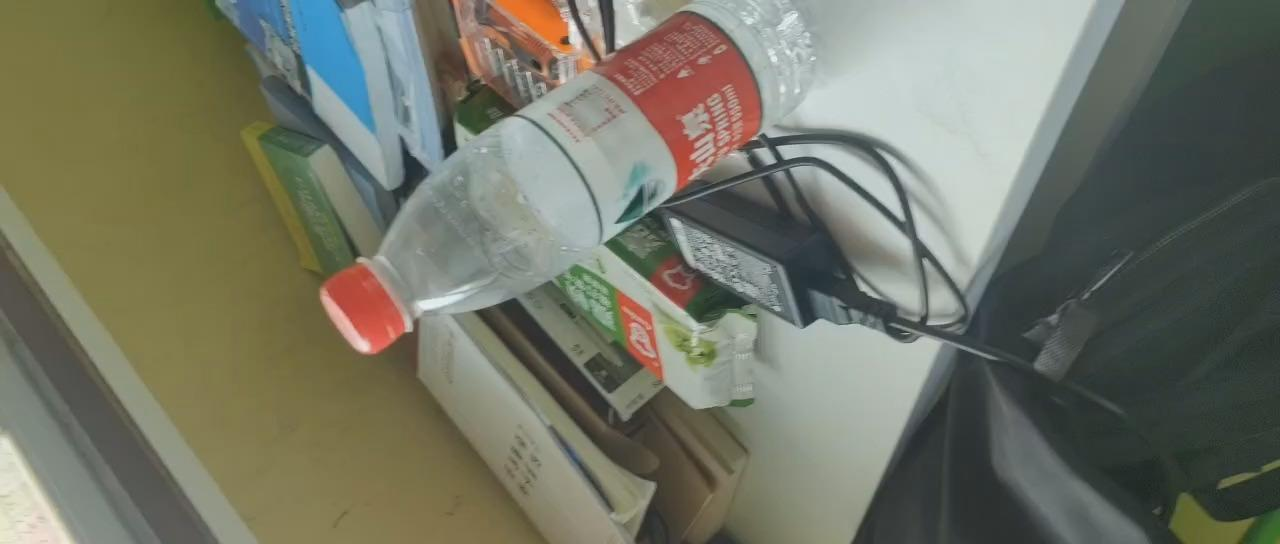BIODEGRADABLE: (313, 0, 819, 357)
